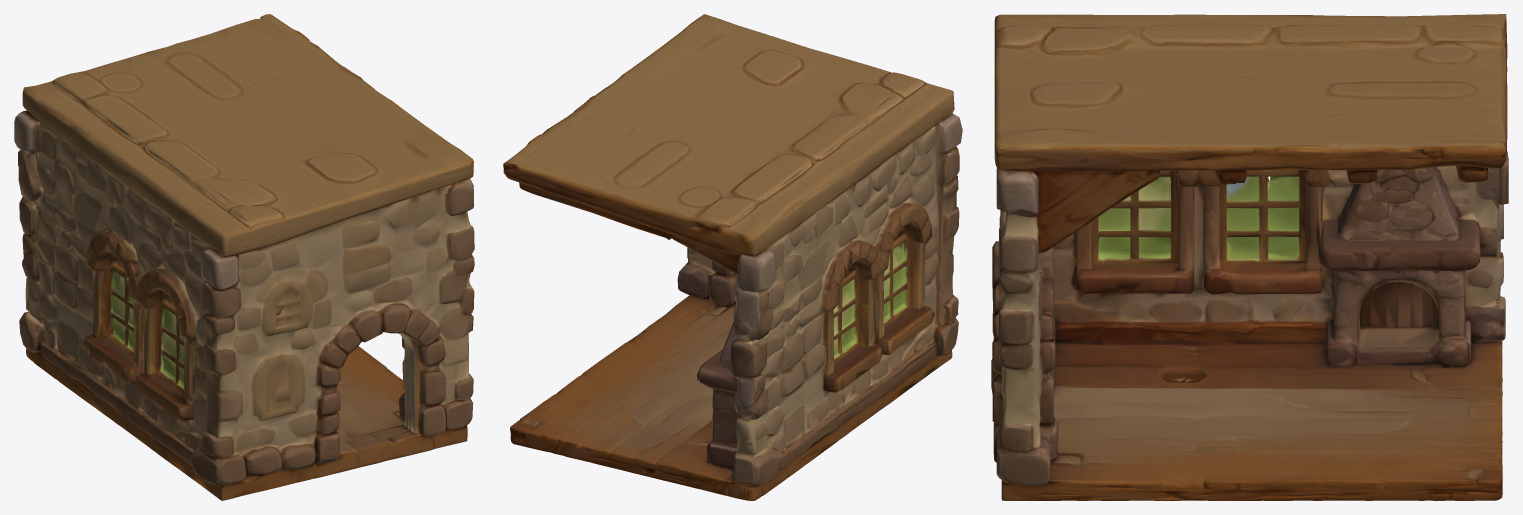
The model's file is waldzimmer-shell.glb.
3 views of the same model, side by side, from view 1: azimuth 30°, elevation 25°; view 2: azimuth 150°, elevation 25°; view 3: azimuth 270°, elevation 25° (orthographic). The views are drawn at different scales.
Visible parts, largest first — view 1: tripo_node_5ebcae04-8d53-4123-8e39-6001f537120d; view 2: tripo_node_5ebcae04-8d53-4123-8e39-6001f537120d; view 3: tripo_node_5ebcae04-8d53-4123-8e39-6001f537120d.
Boxes of the visible parts, box(x1,y1,x2,y2) form: tripo_node_5ebcae04-8d53-4123-8e39-6001f537120d: box(14, 14, 474, 500); tripo_node_5ebcae04-8d53-4123-8e39-6001f537120d: box(503, 14, 962, 500); tripo_node_5ebcae04-8d53-4123-8e39-6001f537120d: box(991, 14, 1508, 500).
Size of the model in its own units: 0.7413 by 0.7488 by 0.9806.
1 material, 1 textured.
